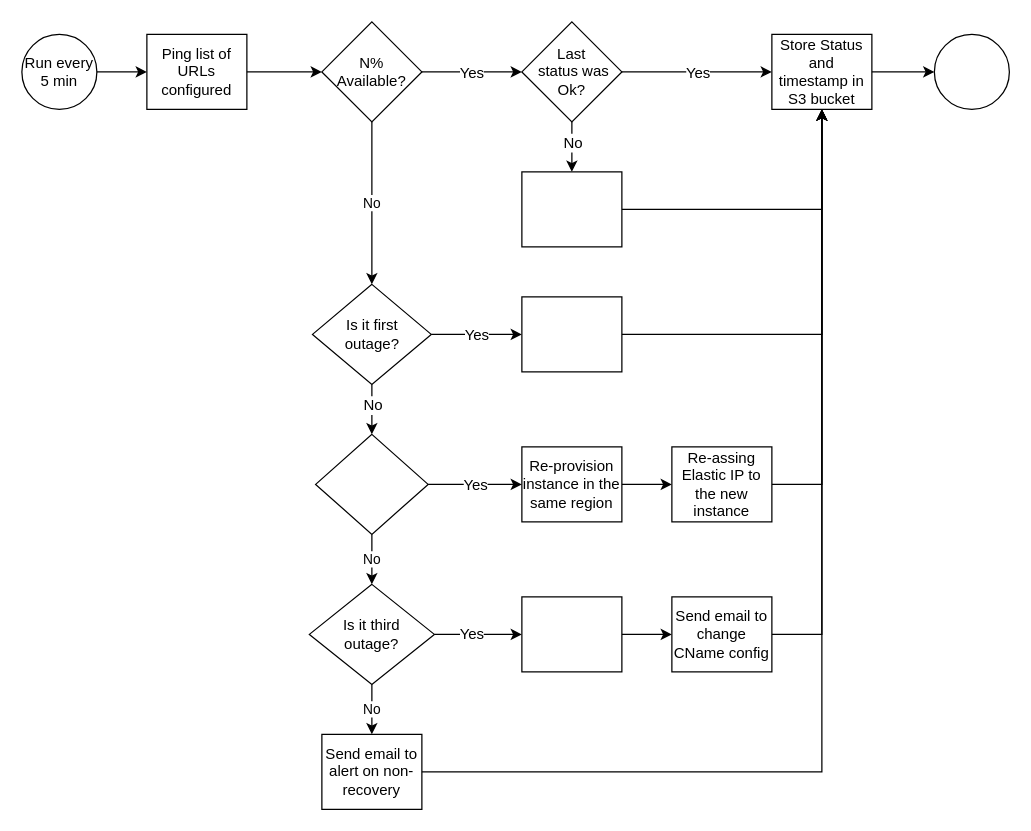
Image size: 1031x831. Some labels were removed from this diagram. The shapes that lost their labels are listed below. From the top down, each one's centre as x and y in pixels, then its label:
At point 971,71: "End".
At point 571,209: "Send email to alert on recovery".
At point 571,334: "Restart Instance".
At point 371,483: "Is it second outage?".
At point 571,634: "Re-provision instance in the DR region".
